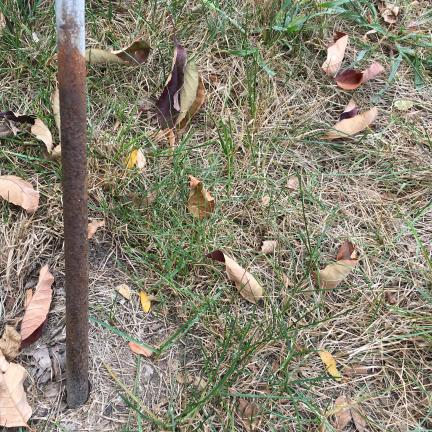karat: (56, 0, 88, 408)
